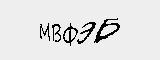Б: (94, 17, 120, 45)
В: (52, 24, 65, 42)
М: (40, 24, 50, 41)
Ф: (61, 22, 78, 44)
Э: (76, 22, 94, 44)
